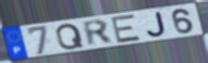6: (171, 7, 195, 35)
7: (25, 24, 51, 56)
E: (110, 13, 143, 45)
J: (145, 11, 168, 38)
Q: (55, 22, 86, 51)
R: (80, 18, 115, 48)
